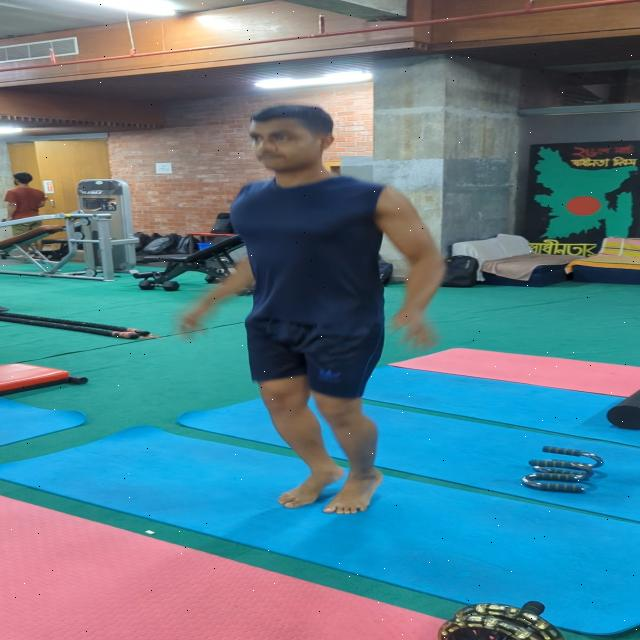Normal_JumpingJacks: (142, 108, 510, 518)
